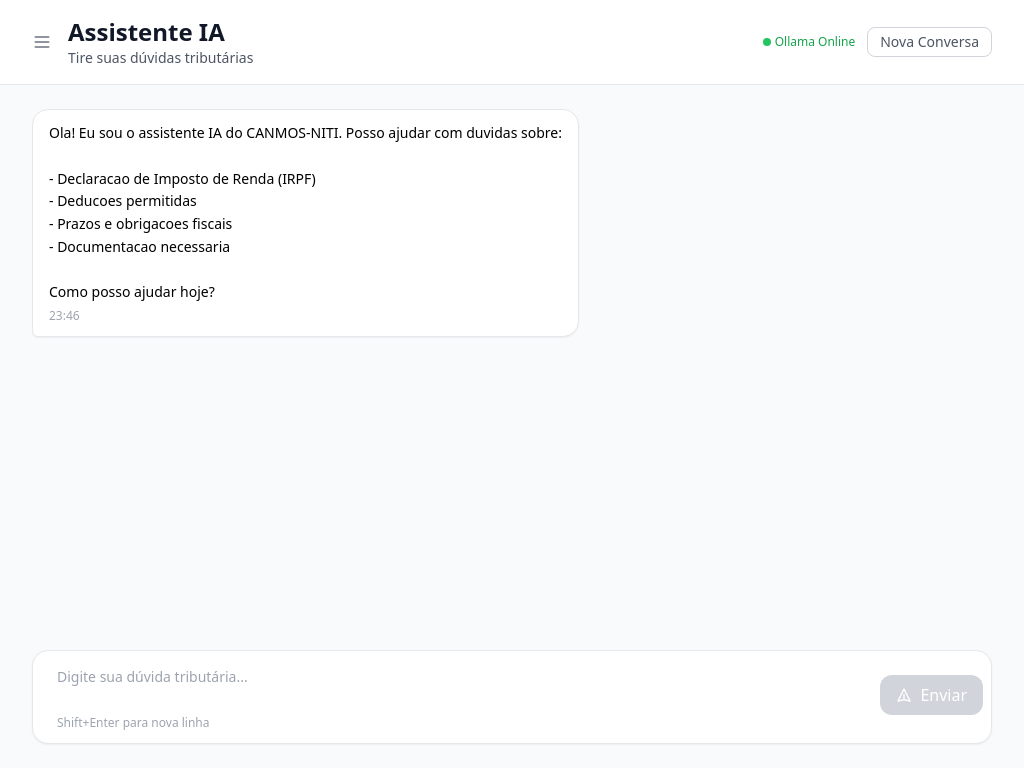
Test: ChatPage › sends a message and receives response
Type "Como declarar rendimentos?" into the text box with placeholder "Digite sua dúvida tributária...".
click(457, 687); type("Como declarar rendimentos?")  # box [41,659,872,715]
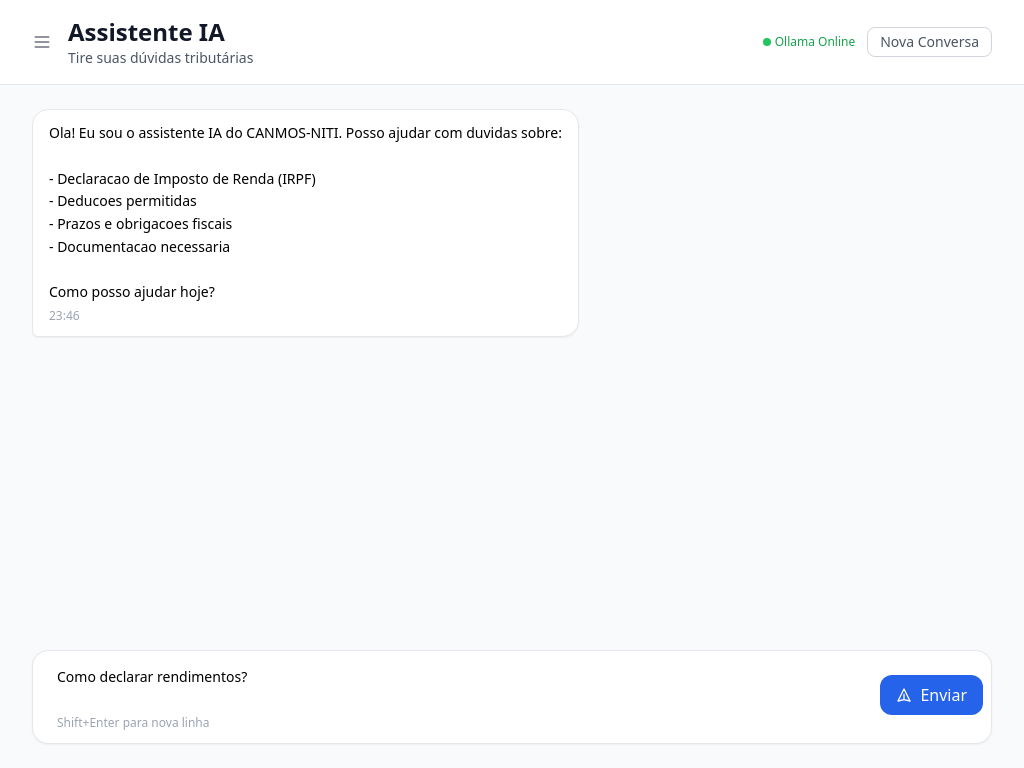
Submit the text "Enviar", box [32,650,992,744]
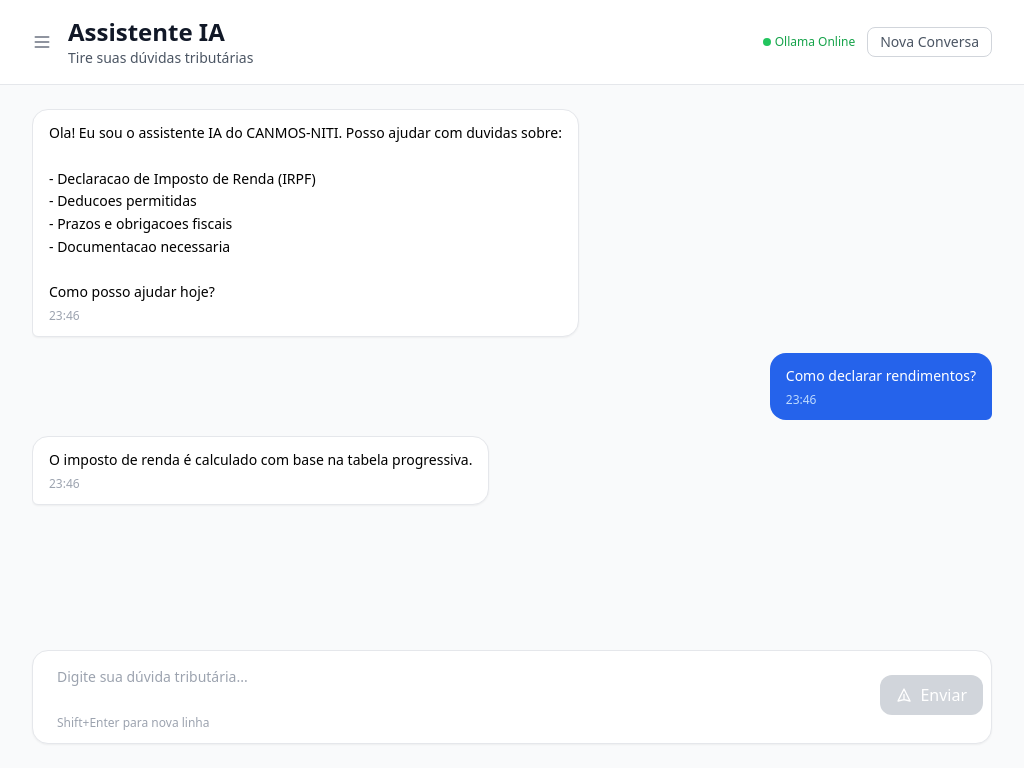
Now the text "Como declarar rendimentos?" is shown, box [786,365,976,388]
Now the text "calculado com base na tabela progressiva" is shown, box [49,450,472,469]
